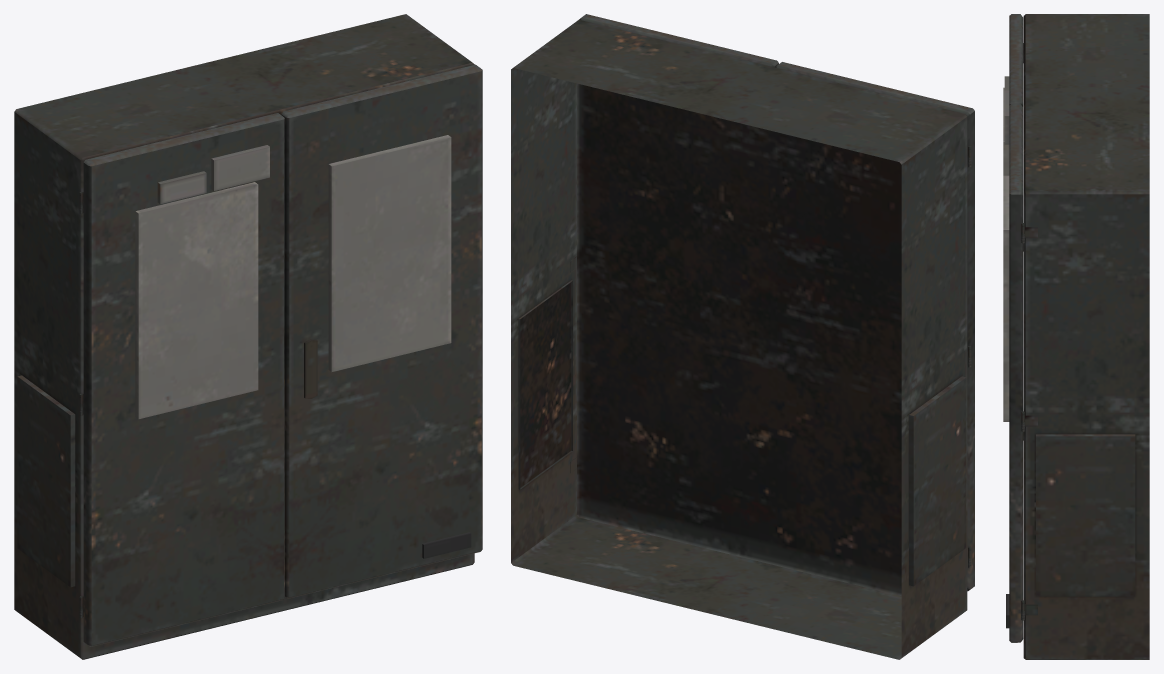
Rendered from sm22_022_switchbox02a.fbx.
3 views of the same model, side by side, from view 1: azimuth 30°, elevation 25°; view 2: azimuth 150°, elevation 25°; view 3: azimuth 270°, elevation 25° (orthographic). The views are drawn at different scales.
Parts seen in each view (by area): view 1: LOD_1_Group_0_Sub_1__sm22_022_SwitchBox02A_A_Mat; view 2: LOD_1_Group_0_Sub_1__sm22_022_SwitchBox02A_A_Mat; view 3: LOD_1_Group_0_Sub_1__sm22_022_SwitchBox02A_A_Mat.
Part boxes in pixels (x1,y1,x2,y2): LOD_1_Group_0_Sub_1__sm22_022_SwitchBox02A_A_Mat: [14, 14, 482, 659]; LOD_1_Group_0_Sub_1__sm22_022_SwitchBox02A_A_Mat: [511, 14, 974, 659]; LOD_1_Group_0_Sub_1__sm22_022_SwitchBox02A_A_Mat: [1003, 14, 1149, 659].
Size of the model in its own units: 1.12 by 1.34 by 0.3797.
